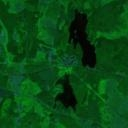alloviz: (67, 7, 97, 68), (53, 72, 78, 113)
